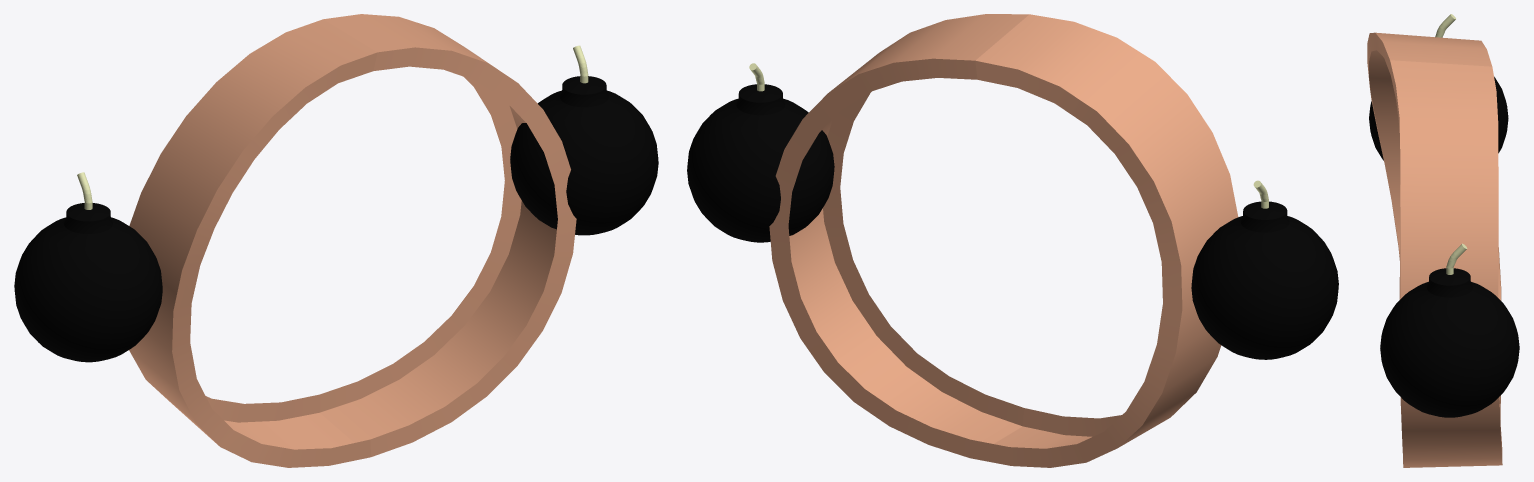
Rendered from Bombs.fbx.
3 renders of one model, left to right at view 1: azimuth 30°, elevation 25°; view 2: azimuth 150°, elevation 25°; view 3: azimuth 270°, elevation 25°, orthographic. The views are drawn at different scales.
Parts seen in each view (by area): view 1: Sphere.002; view 2: Sphere.002; view 3: Sphere.002.
Boxes of the visible parts, bbox=[...] form: Sphere.002: bbox=[14, 14, 658, 467]; Sphere.002: bbox=[687, 14, 1338, 467]; Sphere.002: bbox=[1367, 14, 1519, 467].
Size of the model in its own units: 675 by 419 by 151.
